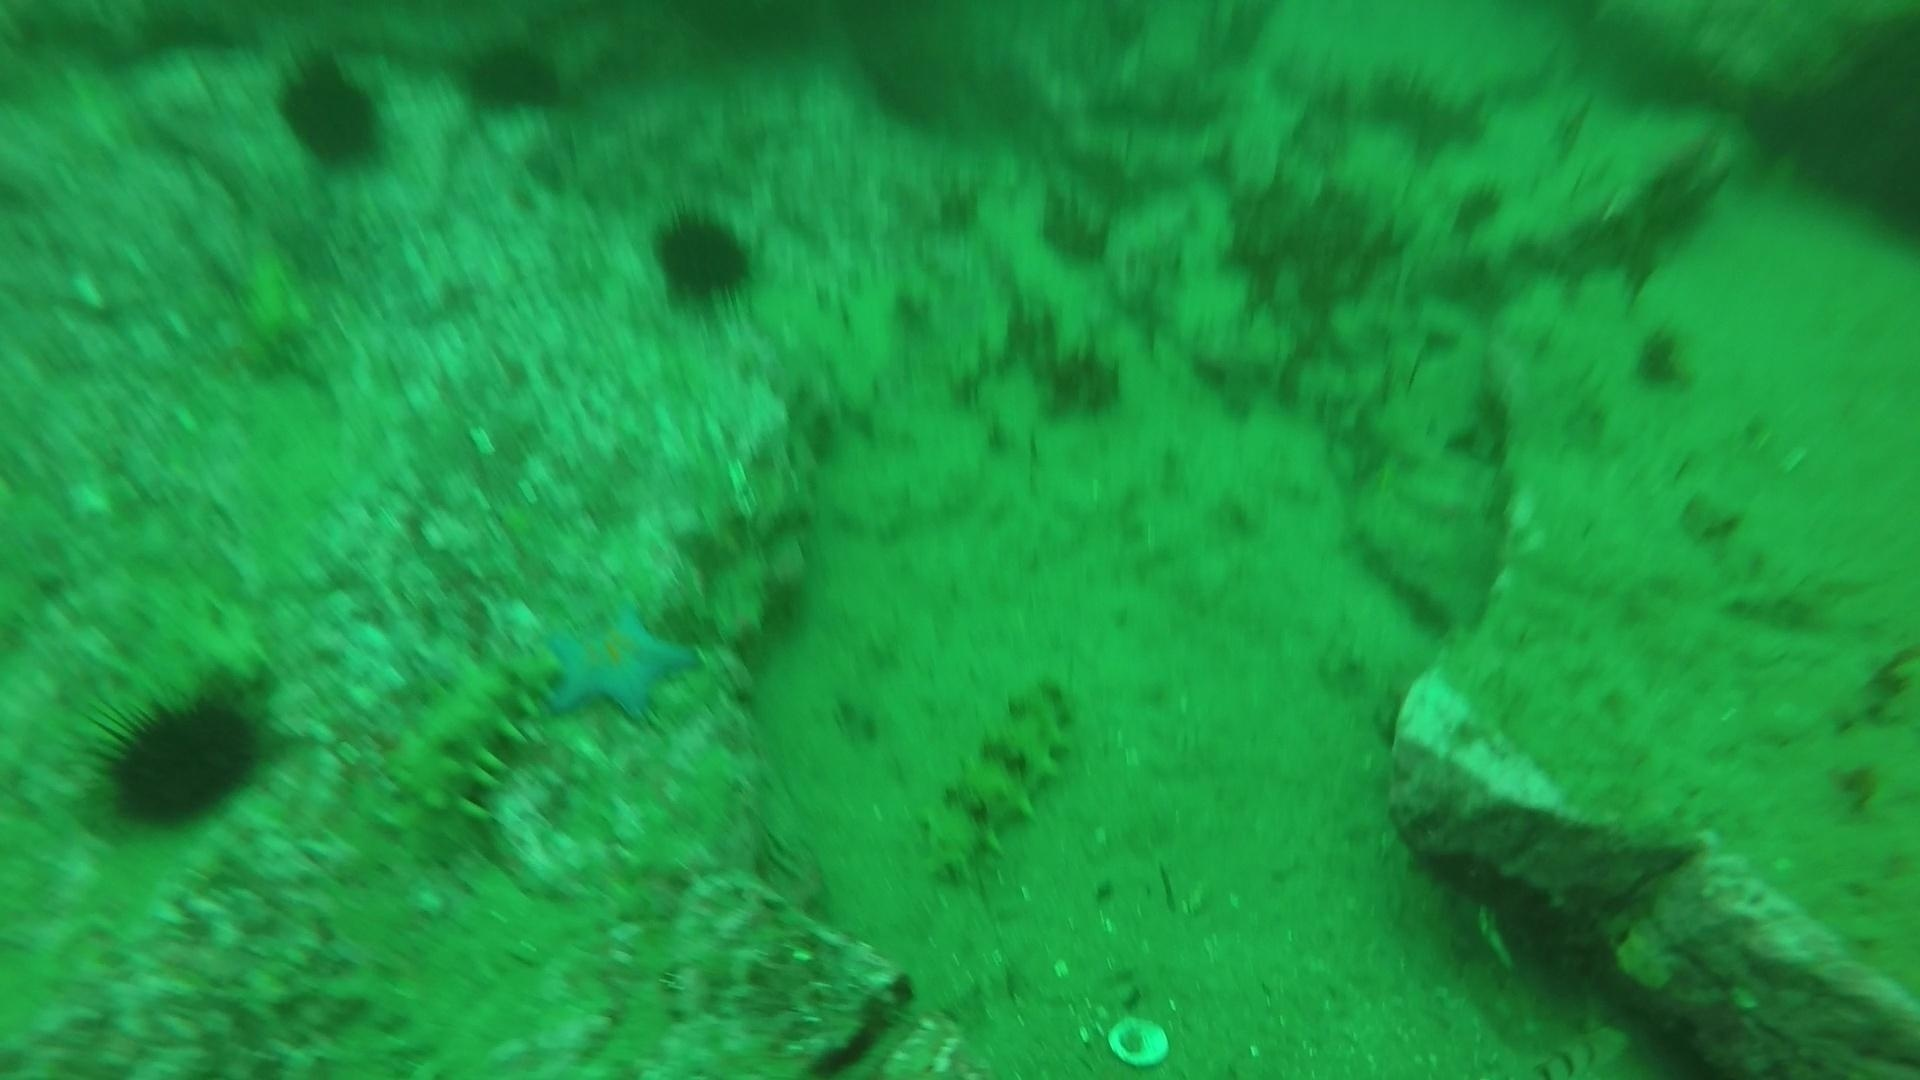echinus: (79, 671, 284, 837), (269, 50, 396, 177), (644, 200, 764, 314), (454, 34, 568, 123)
holothurian: (372, 634, 563, 866), (913, 673, 1084, 887)
starfish: (537, 597, 702, 728)
